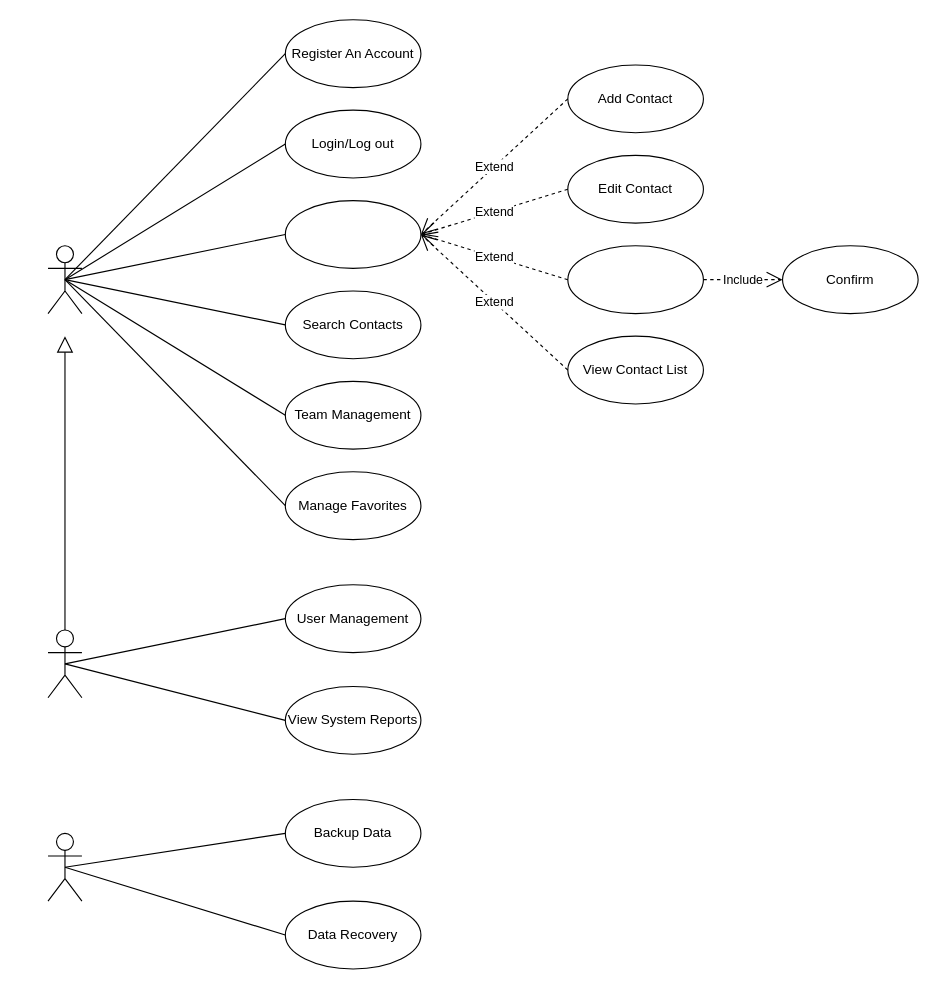
Some shapes in this 938 by 989 pixel diagram are drawn without their labels. The shapes that lost their labels are listed below. From the top down, each one's centre as x and y in pixels, then its label:
At (x=352, y=233): "Contacts Management".
At (x=64, y=279): "User".
At (x=635, y=279): "Delete Contact".
At (x=64, y=663): "Admin".
At (x=64, y=866): "Backup system".
